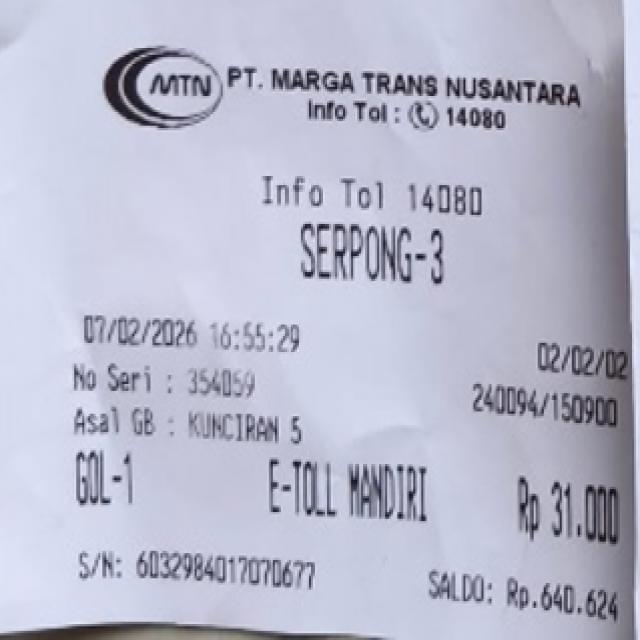date: (76, 311, 306, 358)
store: (206, 58, 583, 132)
total: (506, 467, 622, 554)
